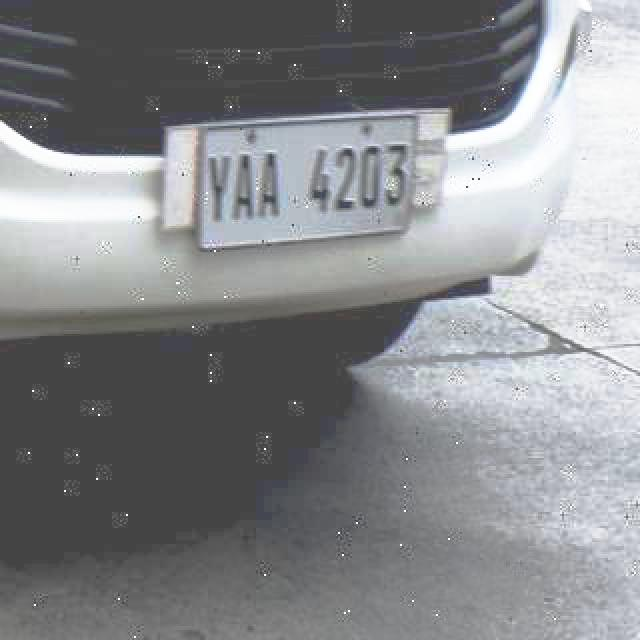license_plate: (204, 117, 418, 252)
